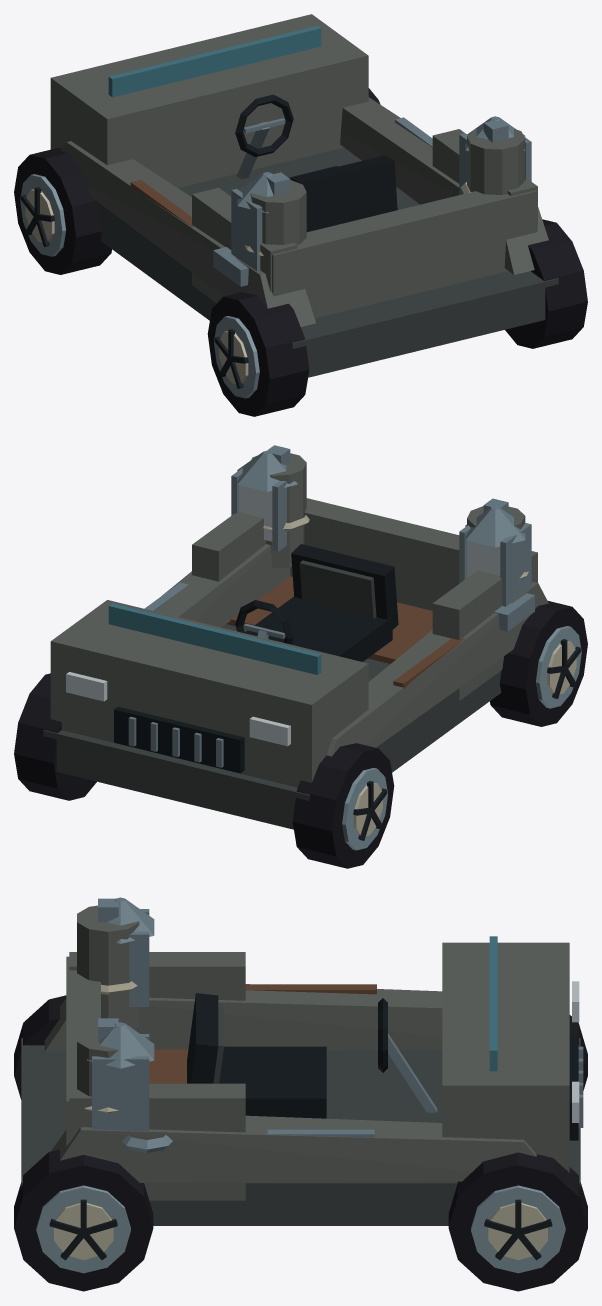
The model's file is kart.glb.
The picture shows the model from 3 angles, top to bottom: view 1: azimuth 30°, elevation 25°; view 2: azimuth 150°, elevation 25°; view 3: azimuth 270°, elevation 25°; orthographic projection. The views are drawn at different scales.
Parts seen in each view (by area): view 1: identity-truck-truck-utility-body, wheel-rear-left, wheel-front-left, identity-truck-driver-cockpit, identity-truck-motif-tanks, wheel-rear-right, identity-truck-motif-lanterns, identity-truck-motif-tools; view 2: identity-truck-truck-utility-body, identity-truck-driver-cockpit, wheel-front-left, identity-truck-motif-lanterns, wheel-rear-left, wheel-front-right, identity-truck-motif-tanks, identity-truck-motif-tools; view 3: identity-truck-truck-utility-body, wheel-front-right, wheel-rear-right, identity-truck-driver-cockpit, identity-truck-motif-lanterns, identity-truck-motif-tanks, identity-truck-motif-tools, wheel-rear-left.
Boxes of the visible parts, <box> form: identity-truck-truck-utility-body: <box>50,14,558,377</box>; wheel-rear-left: <box>207,292,309,416</box>; wheel-front-left: <box>14,148,111,274</box>; identity-truck-driver-cockpit: <box>235,94,397,232</box>; identity-truck-motif-tanks: <box>245,120,525,256</box>; wheel-rear-right: <box>505,219,587,348</box>; identity-truck-motif-lanterns: <box>231,116,531,270</box>; identity-truck-motif-tools: <box>130,117,432,286</box>; identity-truck-truck-utility-body: <box>43,498,548,829</box>; identity-truck-driver-cockpit: <box>235,544,398,661</box>; wheel-front-left: <box>292,743,394,868</box>; identity-truck-motif-lanterns: <box>231,450,531,606</box>; wheel-rear-left: <box>490,601,587,726</box>; wheel-front-right: <box>14,673,96,800</box>; identity-truck-motif-tanks: <box>251,445,528,578</box>; identity-truck-motif-tools: <box>144,582,534,689</box>; identity-truck-truck-utility-body: <box>21,936,583,1225</box>; wheel-front-right: <box>448,1152,587,1291</box>; wheel-rear-right: <box>14,1149,153,1291</box>; identity-truck-driver-cockpit: <box>187,993,437,1118</box>; identity-truck-motif-lanterns: <box>87,897,154,1131</box>; identity-truck-motif-tanks: <box>77,898,139,1113</box>; identity-truck-motif-tools: <box>122,984,376,1152</box>; wheel-rear-left: <box>14,995,66,1099</box>.
Size of the model in its own units: 2.13 by 1.3 by 2.8.
